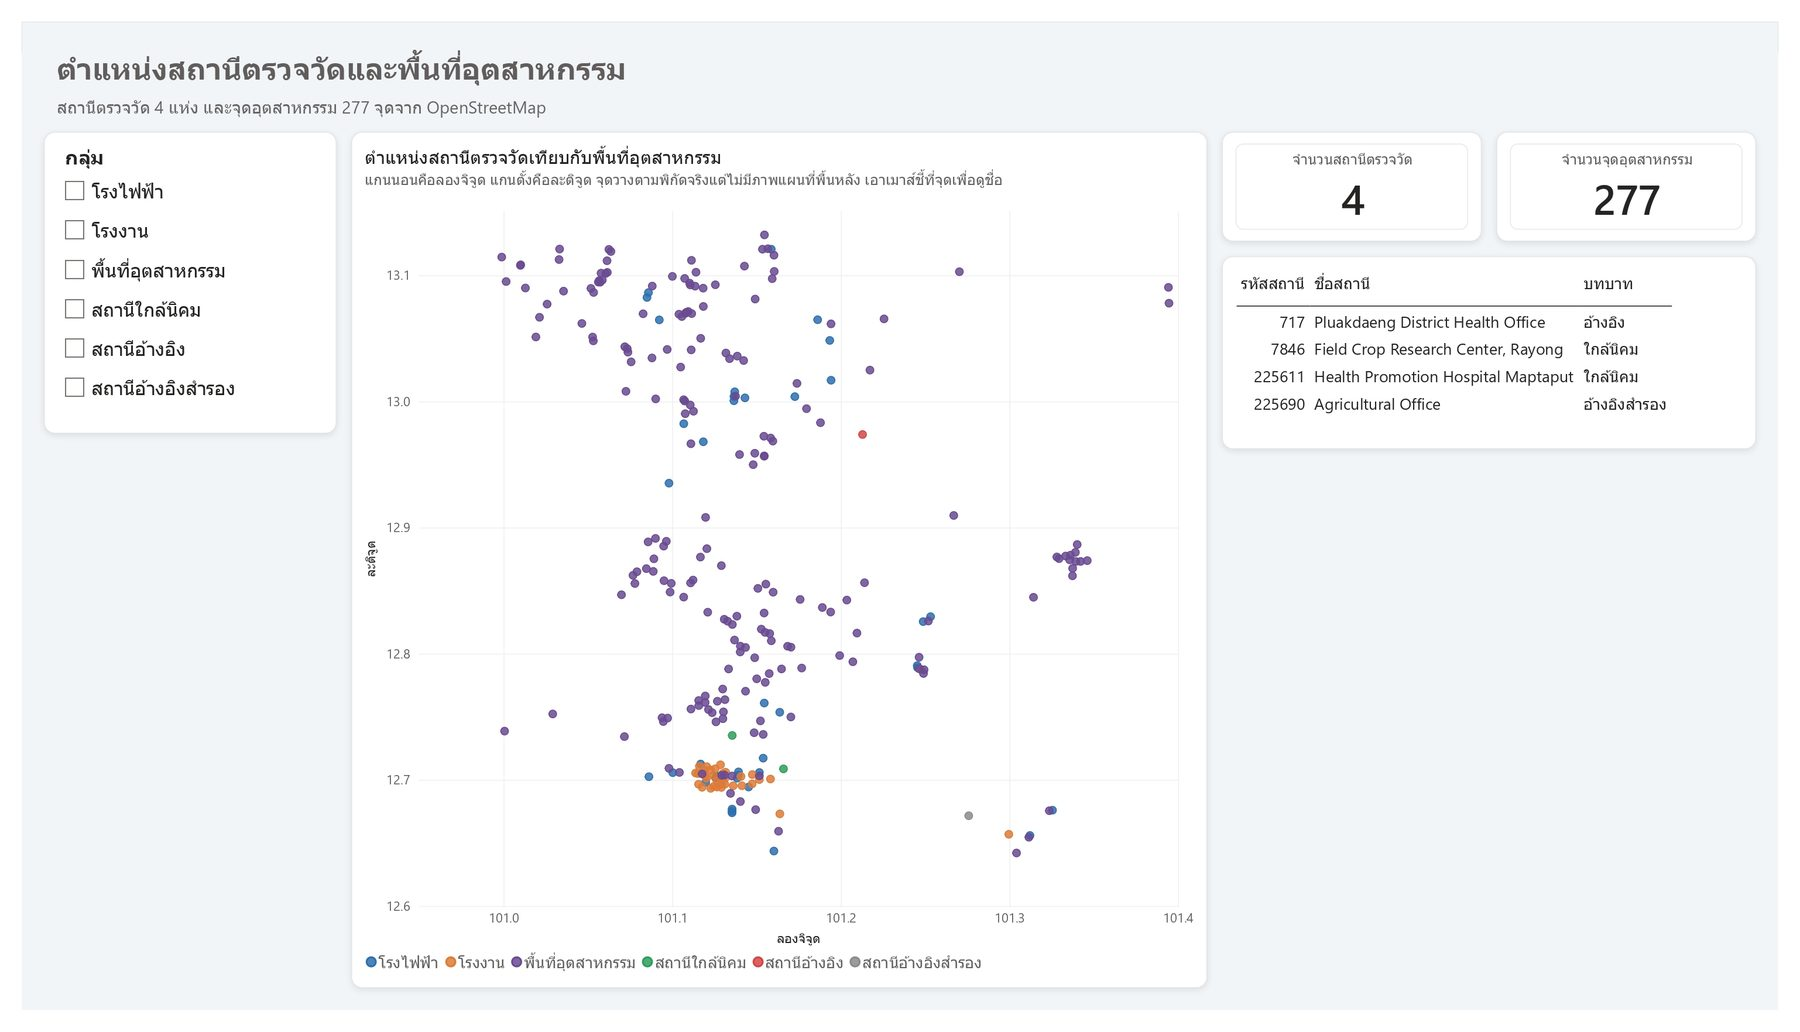

This screenshot's page, from the dashboard's own definition file:
{"tool":"powerbi","page":{"name":"แผนที่","canvas":[1920,1080],"ordinal":4},"visuals":[{"type":"textbox","box":[24,16,1872,72],"z":1000},{"type":"textbox","box":[24,68,1872,52],"z":2000},{"type":"slicer","fields":{"Values":["map_points.กลุ่ม"]},"box":[24,120,320,330],"z":3000},{"type":"cardVisual","fields":{"Data":["map_points.จำนวนสถานี"]},"box":[1312,120,284,120],"z":5000},{"type":"cardVisual","fields":{"Data":["map_points.จำนวนจุดอุตสาหกรรม"]},"box":[1612,120,284,120],"z":6000},{"type":"scatterChart","title":"ตำแหน่งสถานีตรวจวัดเทียบกับพื้นที่อุตสาหกรรม","fields":{"Category":["map_points.รหัสจุด"],"Series":["map_points.กลุ่ม"],"X":["map_points.lon"],"Y":["map_points.lat"]},"box":[360,120,936,936],"z":7001},{"type":"tableEx","title":"สถานีตรวจวัดทั้ง 4 แห่ง","fields":{"Values":["stations.station_id","stations.station_name","stations.role_th"]},"box":[1312.3,255.8,583.4,211.7],"z":9000}]}

Visuals, with their boxes in screenshot pixels (x1, y1, x2, y2), scaled from the page's 1920x1080 canvas onto the 1800x1032 screenshot:
textbox: (x1=22, y1=15, x2=1778, y2=84)
textbox: (x1=22, y1=65, x2=1778, y2=115)
slicer - map_points.กลุ่ม: (x1=22, y1=115, x2=322, y2=430)
cardVisual - map_points.จำนวนสถานี: (x1=1230, y1=115, x2=1496, y2=229)
cardVisual - map_points.จำนวนจุดอุตสาหกรรม: (x1=1511, y1=115, x2=1778, y2=229)
"ตำแหน่งสถานีตรวจวัดเทียบกับพื้นที่อุตสาหกรรม" scatterChart: (x1=338, y1=115, x2=1215, y2=1009)
"สถานีตรวจวัดทั้ง 4 แห่ง" tableEx: (x1=1230, y1=244, x2=1777, y2=447)
